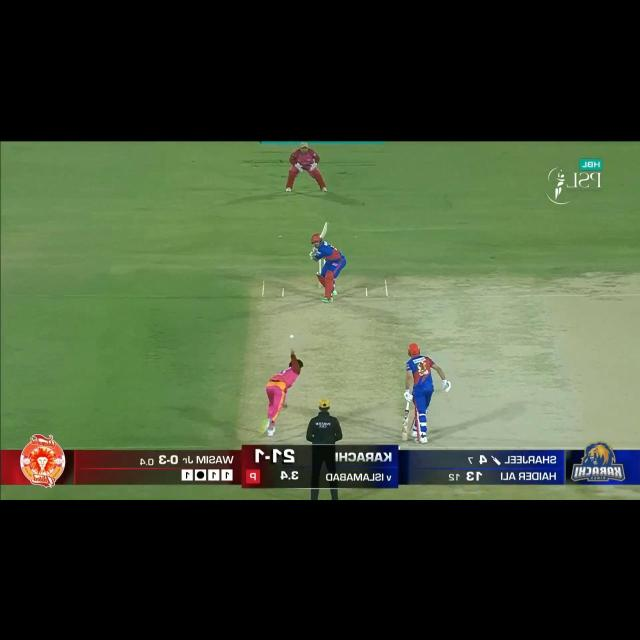bat: (401, 410, 409, 441), (321, 222, 329, 239)
toe: (323, 222, 329, 233), (401, 434, 407, 441)
